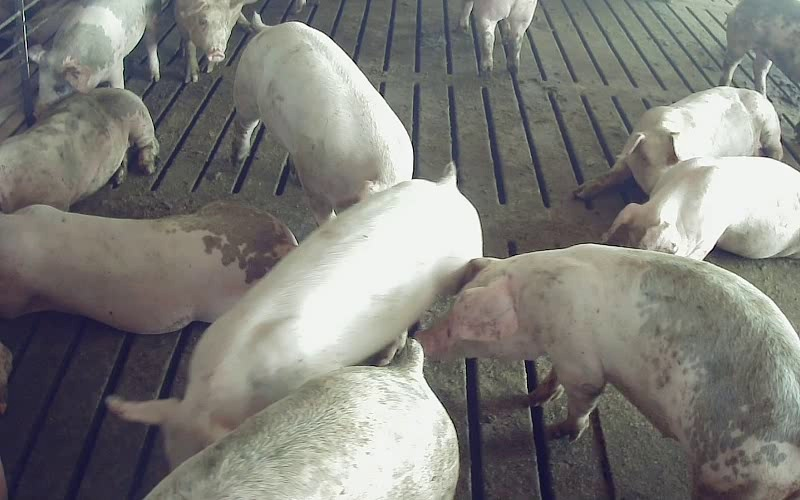pig: (109, 164, 481, 465), (145, 339, 458, 499), (0, 203, 296, 333), (234, 17, 412, 223), (574, 86, 782, 198), (602, 157, 799, 259), (0, 88, 158, 211)
